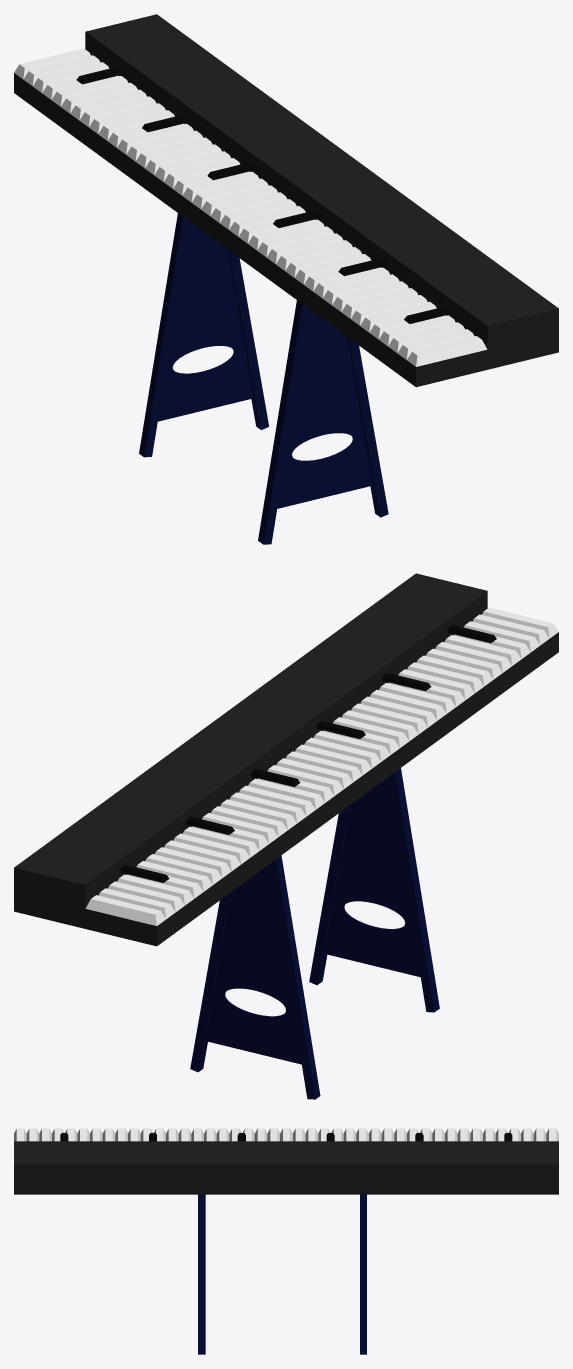
The model's file is Keyboard.FBX.
The picture shows the model from 3 angles, top to bottom: view 1: azimuth 30°, elevation 25°; view 2: azimuth 150°, elevation 25°; view 3: azimuth 270°, elevation 25°; orthographic projection. The views are drawn at different scales.
Parts seen in each view (by area): view 1: Box003, Box001, Box002; view 2: Box003, Box001, Box002; view 3: Box003, Box001, Box002.
Boxes of the visible parts, x1,y1,x2,y2 form: Box003: (14,14,558,387); Box001: (258,300,388,544); Box002: (139,213,269,457); Box003: (14,573,558,946); Box001: (309,768,439,1012); Box002: (190,855,320,1099); Box003: (14,1128,558,1194); Box001: (198,1194,205,1354); Box002: (360,1194,366,1354).
Bounding box in the file's own units: 355 × 633 × 1547.
